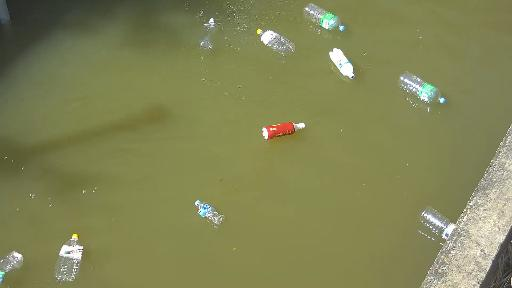plastic: (182, 11, 258, 54), (414, 198, 476, 250), (395, 71, 466, 110), (288, 3, 362, 38), (57, 230, 96, 272), (0, 245, 46, 275), (324, 42, 357, 83), (193, 197, 240, 225), (252, 25, 304, 49), (262, 122, 325, 138)
